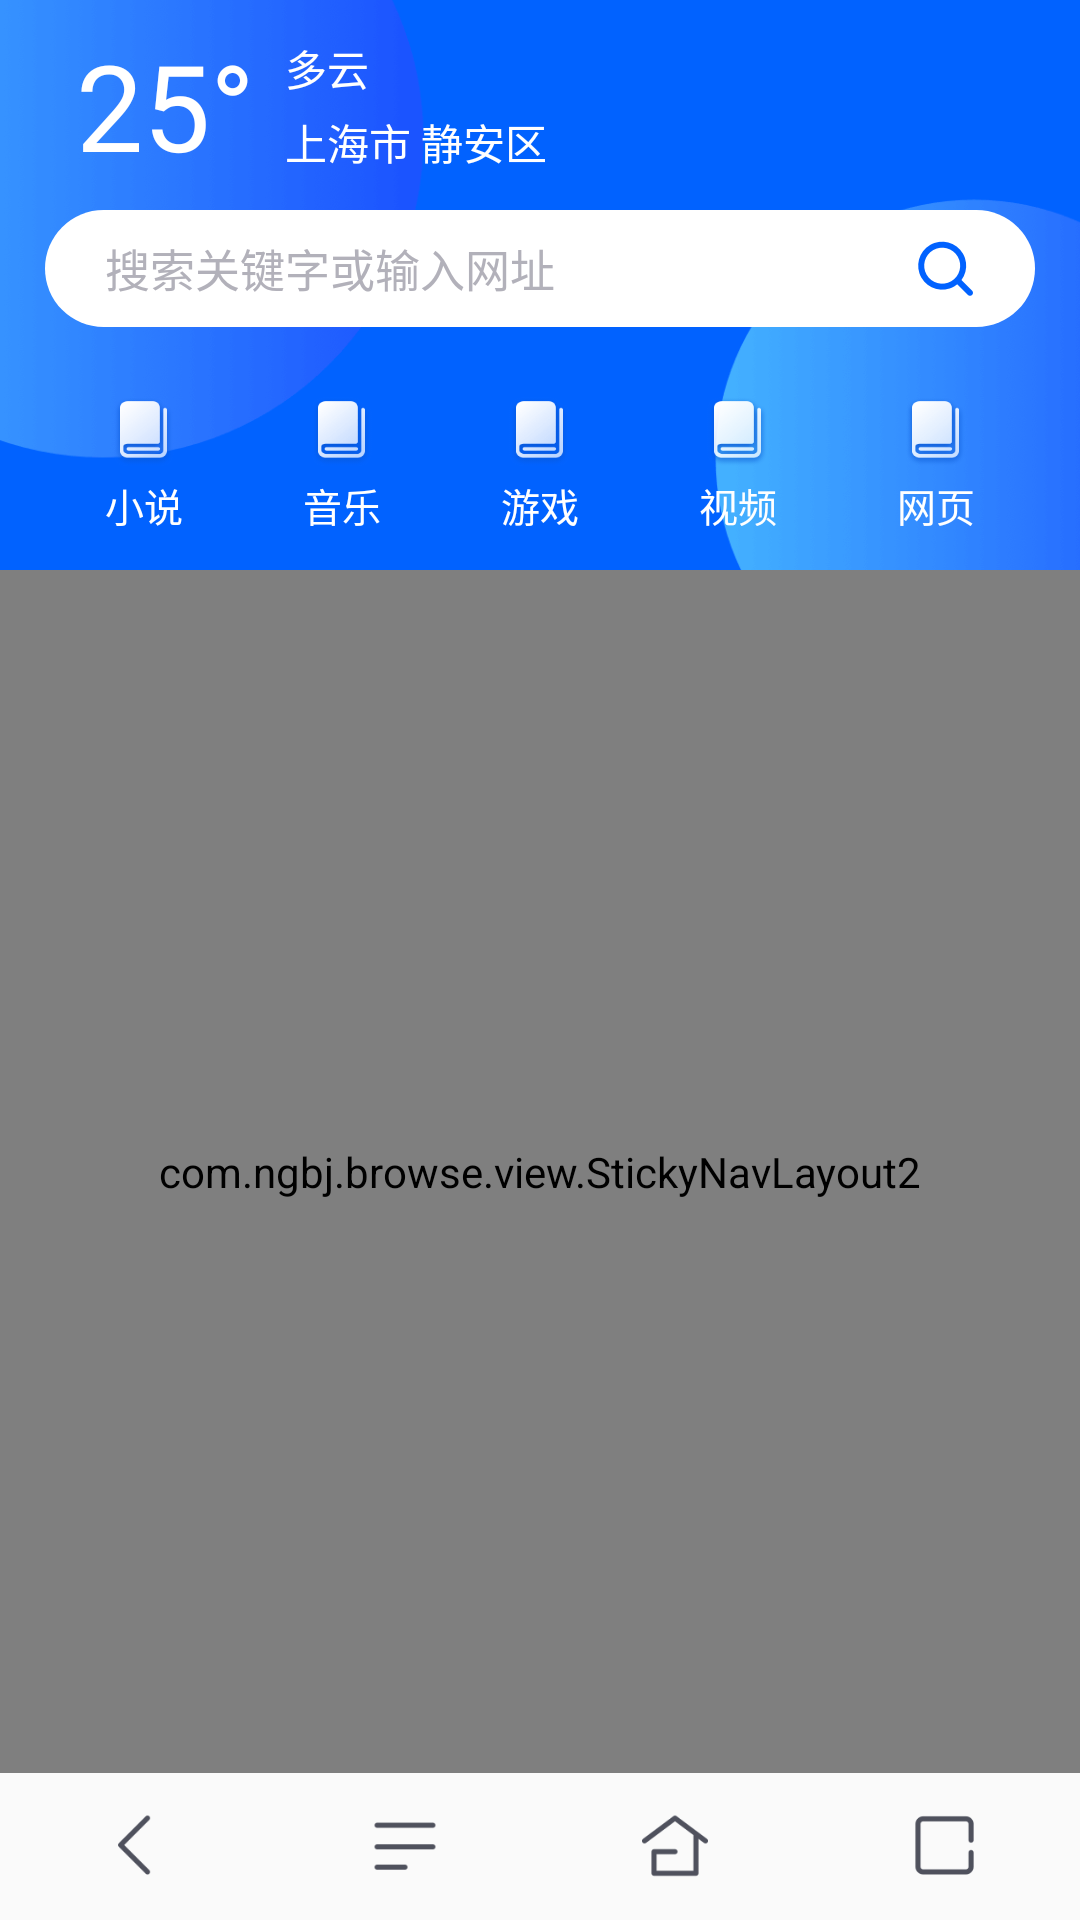

Where to tap for icons on this 1080*1920 app screen, as point (x, y):
index bottom back: point (134, 1845)
index bottom home: point (675, 1845)
index bottom meun: point (405, 1846)
index bottom page: point (944, 1845)
index nav: point (143, 432), point (737, 432), point (341, 429), point (539, 429), point (936, 431)
